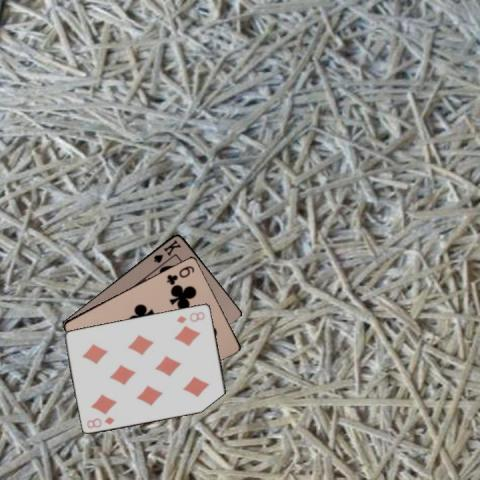6c: (163, 263, 196, 286)
8d: (174, 308, 206, 325), (84, 414, 116, 430)
Ks: (150, 236, 182, 264)
